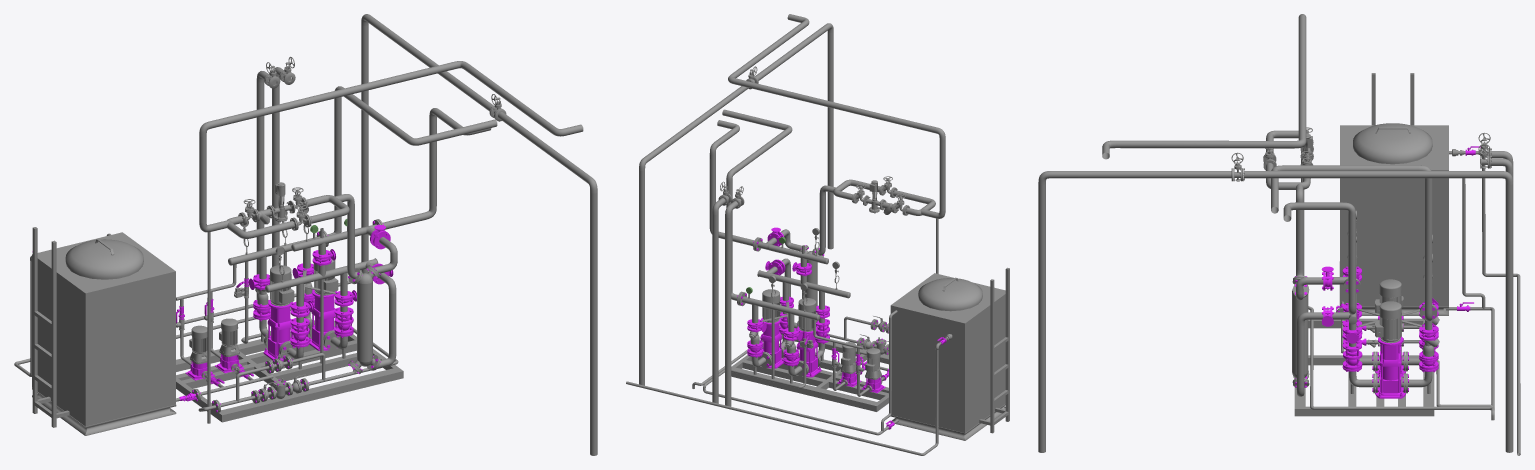
3 views of the same model, side by side, from view 1: azimuth 30°, elevation 25°; view 2: azimuth 150°, elevation 25°; view 3: azimuth 270°, elevation 25° (orthographic). The views are drawn at different scales.
Visible parts, largest first — view 1: 1, 3, 5, 2, 4, shang002, Box004, Box009, Box008; view 2: 1, 3, 5, 2, 4, shang002, 对象125, Box008, Box010, Box004, Box009; view 3: 1, 3, 5, 2, 4, Box010, Box004.
Boxes of the visible parts, x1,y1,x2,y2 form: 1: [14, 14, 597, 455]; 3: [32, 227, 176, 435]; 5: [32, 221, 393, 412]; 2: [176, 321, 403, 422]; 4: [30, 68, 506, 412]; shang002: [238, 187, 311, 230]; Box004: [269, 265, 294, 306]; Box009: [219, 318, 239, 356]; Box008: [189, 325, 207, 364]; 1: [626, 14, 952, 455]; 3: [890, 267, 1009, 440]; 5: [737, 227, 946, 429]; 2: [731, 332, 888, 411]; 4: [718, 74, 952, 392]; shang002: [852, 176, 909, 215]; 对象125: [746, 228, 839, 311]; Box008: [865, 348, 881, 379]; Box010: [762, 289, 781, 322]; Box004: [798, 298, 817, 331]; Box009: [840, 342, 856, 373]; 1: [1038, 14, 1520, 455]; 3: [1339, 73, 1448, 315]; 5: [1294, 146, 1480, 398]; 2: [1294, 318, 1434, 416]; 4: [1231, 134, 1490, 393]; Box010: [1375, 301, 1401, 343]; Box004: [1375, 279, 1401, 315].
Bounding box in the file's own units: 555 × 402 × 570.
